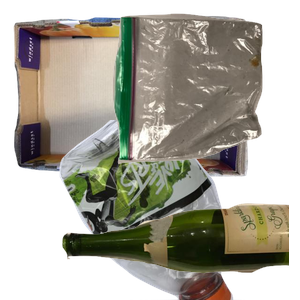cardboard: (11, 13, 251, 182)
glass: (60, 201, 300, 300)
plastic: (57, 120, 293, 300)
trash: (110, 11, 300, 167)
